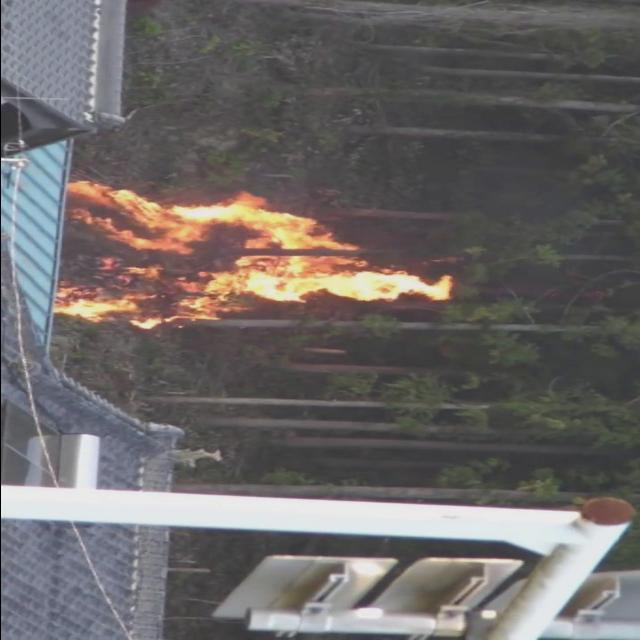Fire: (52, 180, 456, 328)
